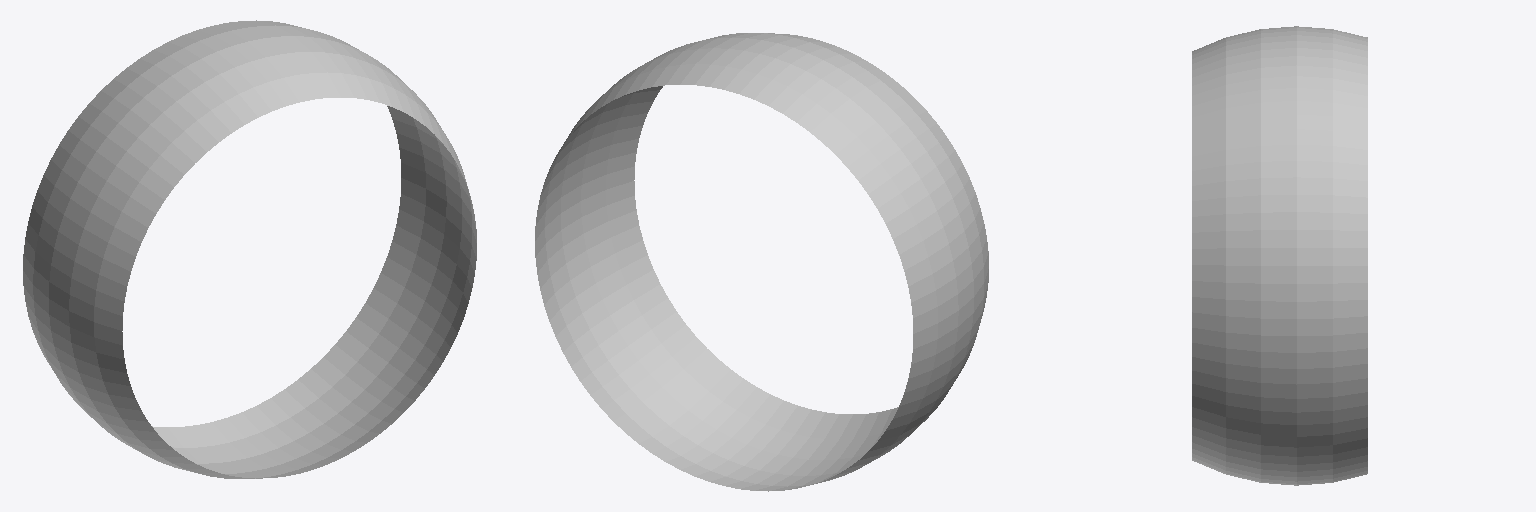
The model's file is dibiao02.obj.
The picture shows the model from 3 angles: view 1: azimuth 30°, elevation 25°; view 2: azimuth 150°, elevation 25°; view 3: azimuth 270°, elevation 25°; orthographic projection.
Visible parts, largest first — view 1: pSphere1; view 2: pSphere1; view 3: pSphere1.
Part boxes in pixels (left/top/right/bottom): pSphere1: left=23, top=20, right=476, bottom=478; pSphere1: left=535, top=33, right=988, bottom=491; pSphere1: left=1192, top=26, right=1367, bottom=485.
Bounding box in the file's own units: 82.45 × 82.45 × 31.45.